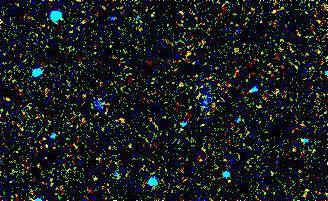star: (215, 165, 245, 195)
